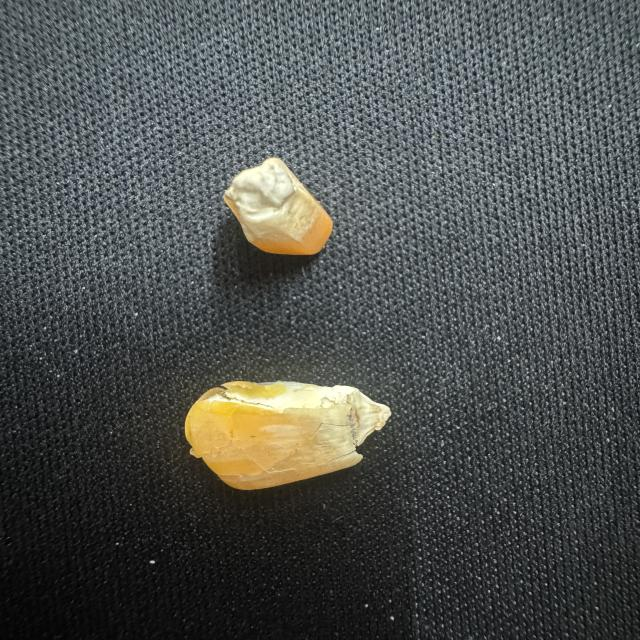Bad-Seed: (174, 375, 424, 493), (208, 148, 346, 276)
